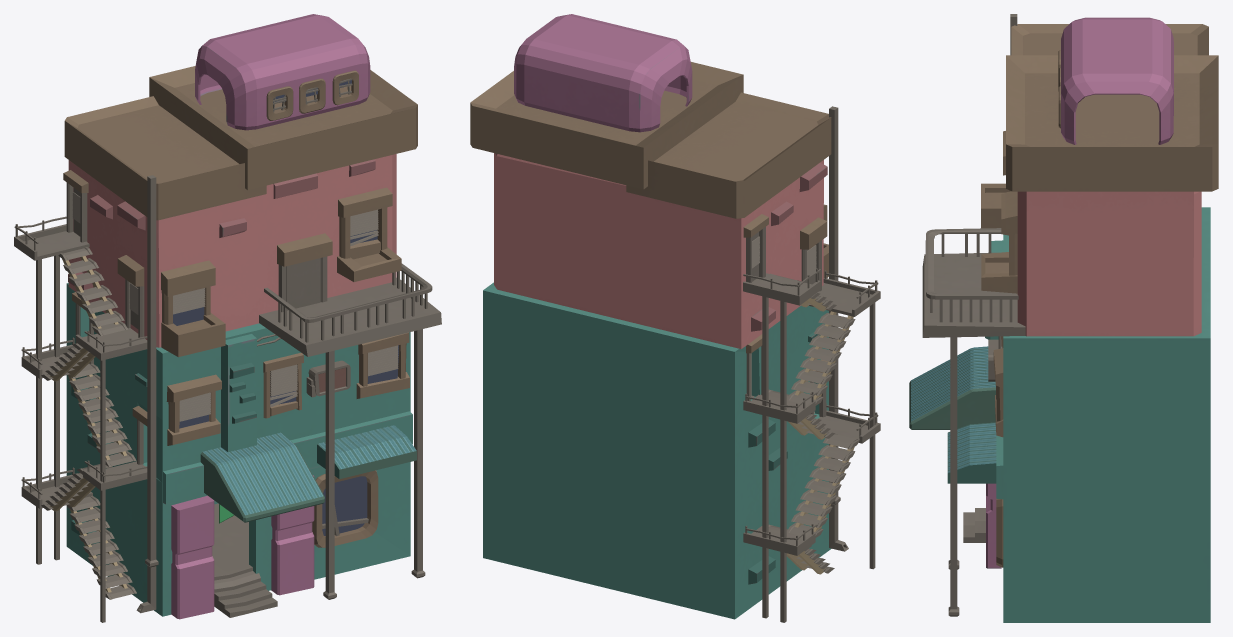
The model's file is SM_House_1.fbx.
3 views of the same model, side by side, from view 1: azimuth 30°, elevation 25°; view 2: azimuth 150°, elevation 25°; view 3: azimuth 270°, elevation 25° (orthographic). The views are drawn at different scales.
Visible parts, largest first — view 1: SM_House_1; view 2: SM_House_1; view 3: SM_House_1.
Boxes of the visible parts, x1=… form: SM_House_1: x1=14, y1=14, x2=441, y2=622; SM_House_1: x1=470, y1=14, x2=880, y2=622; SM_House_1: x1=909, y1=14, x2=1218, y2=622.
Bounding box in the file's own units: 1043 × 812 × 1557.
